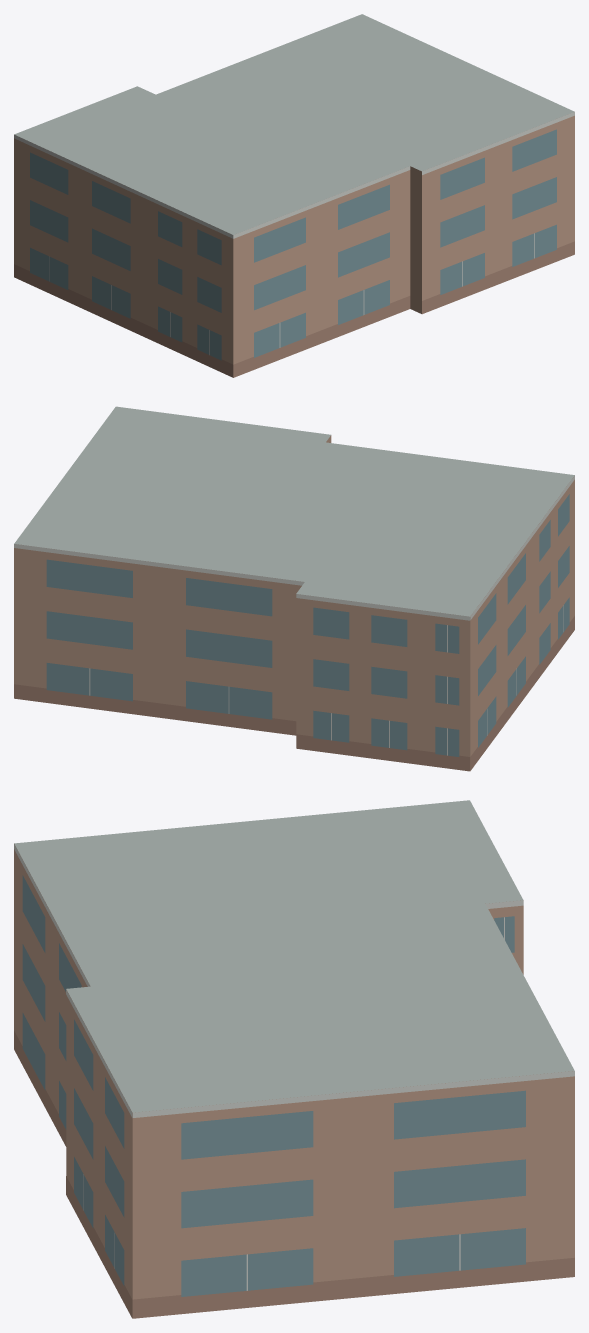
Rendered from survey-upis-32837107.glb.
3 views of the same model, one above another, from view 1: azimuth 30°, elevation 25°; view 2: azimuth 150°, elevation 25°; view 3: azimuth 270°, elevation 25° (orthographic). The views are drawn at different scales.
Parts seen in each view (by area): view 1: survey-upis-32837107.tmp; view 2: survey-upis-32837107.tmp; view 3: survey-upis-32837107.tmp.
Part boxes in pixels (x1,y1,x2,y2): survey-upis-32837107.tmp: (14,14,574,377); survey-upis-32837107.tmp: (14,406,574,771); survey-upis-32837107.tmp: (14,800,574,1318).
Bounding box in the file's own units: 29.77 × 9.15 × 22.58.
